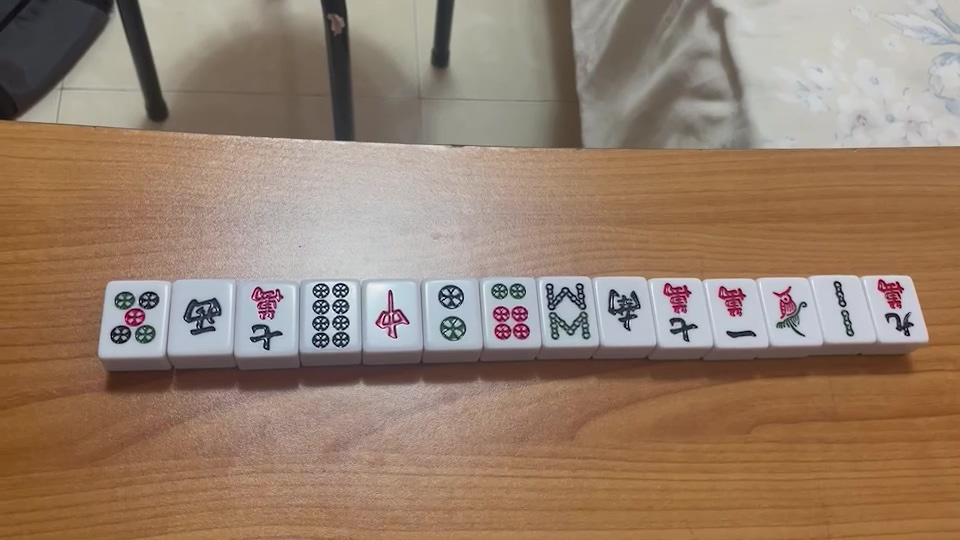b-1: (769, 284, 812, 343)
b-2: (827, 277, 861, 343)
b-8: (542, 277, 594, 341)
c-1: (715, 282, 761, 345)
c-7: (245, 284, 286, 353), (659, 280, 699, 342)
c-9: (873, 274, 921, 345)
d-2: (434, 283, 467, 341)
d-5: (106, 286, 161, 346)
d-6: (486, 279, 533, 342)
d-8: (308, 282, 356, 348)
honors-red: (373, 287, 408, 343)
honors-south: (603, 283, 644, 336)
honors-west: (179, 294, 225, 336)
